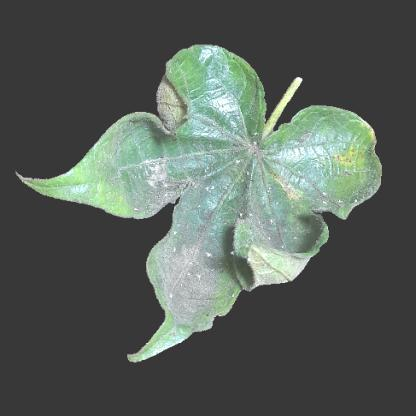curl_stage1: (71, 168, 123, 212), (341, 140, 379, 176)
healthy: (203, 68, 250, 120), (291, 120, 336, 153)
sooty: (164, 248, 216, 334), (210, 138, 278, 202), (188, 185, 242, 253), (249, 206, 297, 264), (127, 171, 187, 210), (307, 179, 377, 211), (157, 86, 187, 132), (111, 124, 141, 162)
